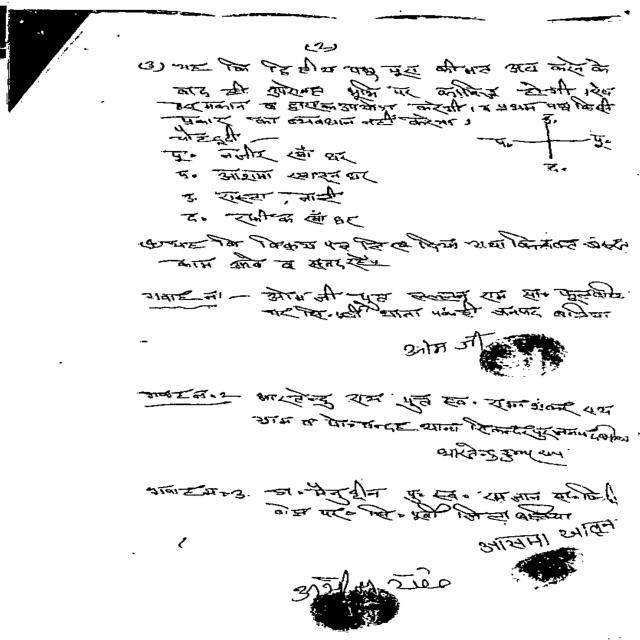fingerprint: (468, 326, 574, 380), (309, 588, 403, 632), (508, 548, 588, 592), (497, 540, 502, 540)
